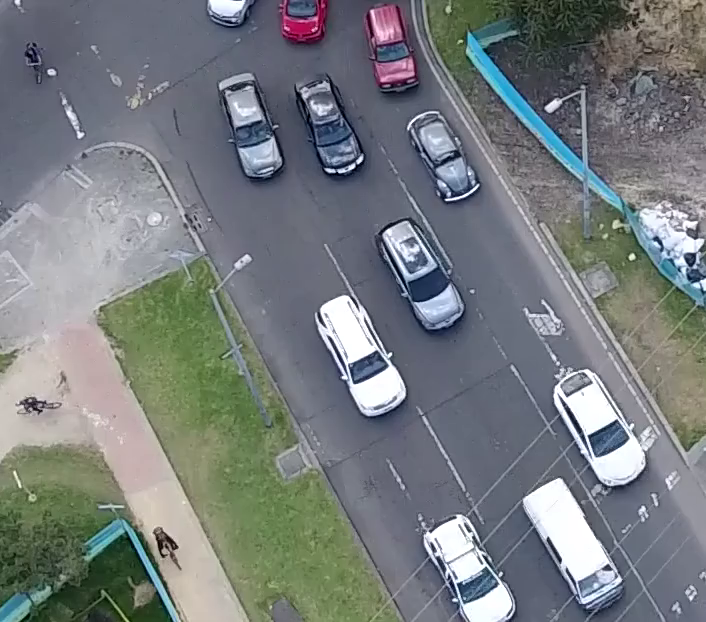car: (517, 473, 628, 615), (307, 291, 411, 422), (549, 367, 650, 494), (373, 211, 465, 344), (415, 510, 516, 622), (213, 72, 287, 188), (292, 71, 366, 182), (403, 107, 482, 203), (359, 0, 428, 92)
